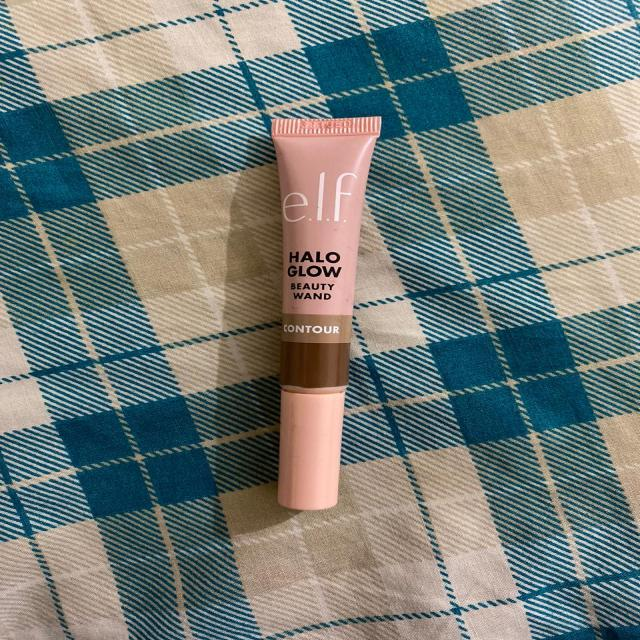concealer: (264, 99, 390, 518)
